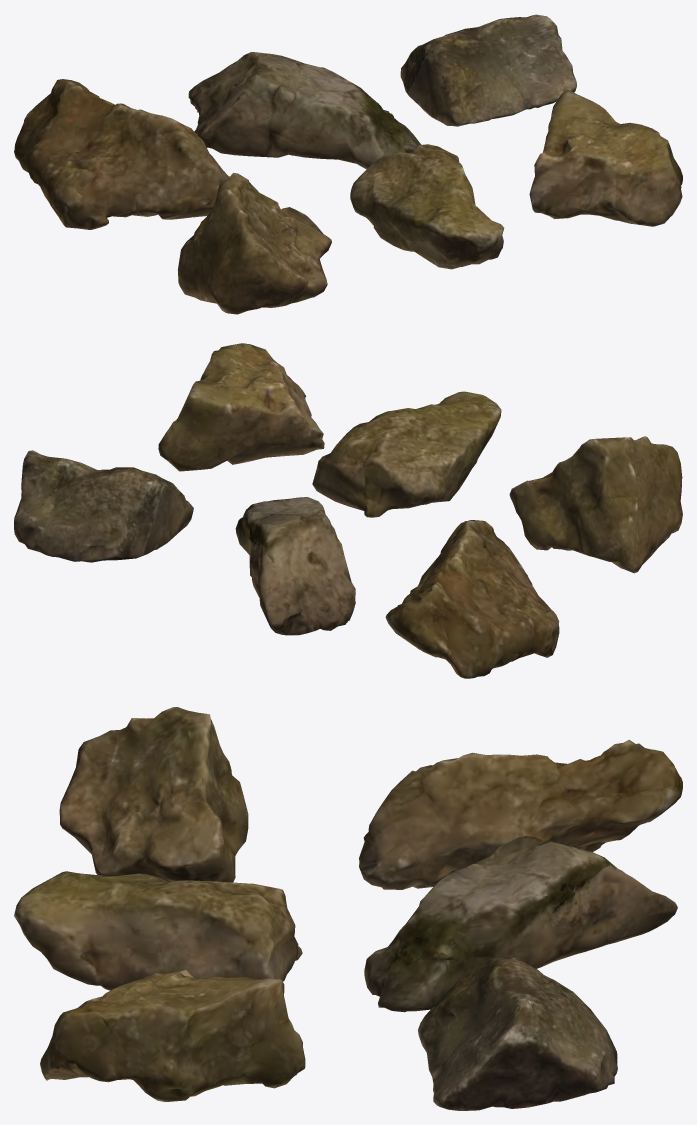
Rendered from rock_moss_set_01.glb.
3 renders of one model, top to bottom at view 1: azimuth 30°, elevation 25°; view 2: azimuth 150°, elevation 25°; view 3: azimuth 270°, elevation 25°, orthographic. The views are drawn at different scales.
Visible parts, largest first — view 1: rock_moss_set_01_rock01; view 2: rock_moss_set_01_rock01; view 3: rock_moss_set_01_rock01.
Boxes of the visible parts, x1=… form: rock_moss_set_01_rock01: x1=14, y1=14, x2=682, y2=314; rock_moss_set_01_rock01: x1=14, y1=343, x2=682, y2=678; rock_moss_set_01_rock01: x1=14, y1=707, x2=682, y2=1110.
Bounding box in the file's own units: 8 × 1.76 × 6.94.
1 material, 1 textured.
